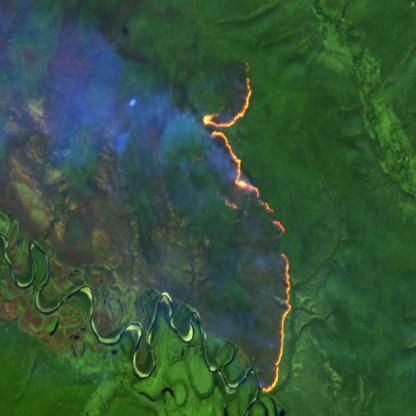fire: (201, 56, 305, 397)
